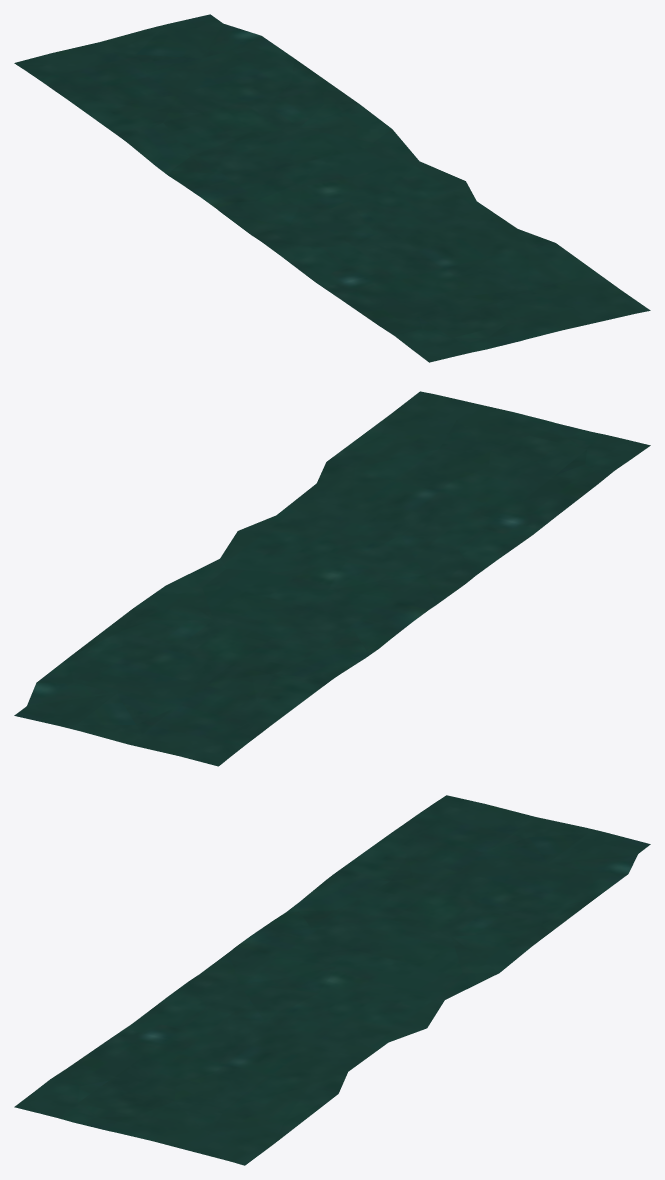
The picture shows the model from 3 angles, top to bottom: view 1: azimuth 30°, elevation 25°; view 2: azimuth 150°, elevation 25°; view 3: azimuth 330°, elevation 25°; orthographic projection. The views are drawn at different scales.
Bounding box in the file's own units: 16.1 × 0.4105 × 52.22.
1 material, 1 textured.
